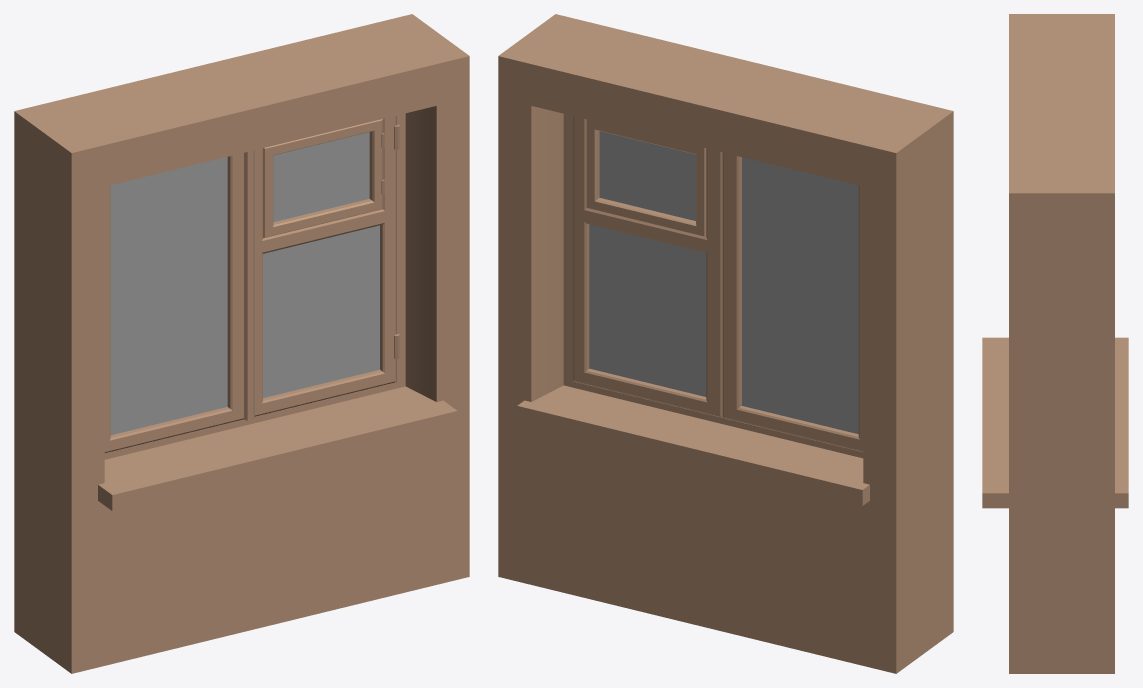
The model's file is window_mesh_01.fbx.
The picture shows the model from 3 angles, left to right: view 1: azimuth 30°, elevation 25°; view 2: azimuth 150°, elevation 25°; view 3: azimuth 270°, elevation 25°; orthographic projection. The views are drawn at different scales.
Visible parts, largest first — view 1: window_room_base, window_room_glass; view 2: window_room_base, window_room_glass; view 3: window_room_base.
Part boxes in pixels (x1,y1,x2,y2): window_room_base: [14, 14, 469, 673]; window_room_glass: [110, 132, 379, 435]; window_room_base: [498, 14, 953, 673]; window_room_glass: [589, 131, 858, 434]; window_room_base: [982, 14, 1128, 673].
Bounding box in the file's own units: 200 × 250 × 68.83.
